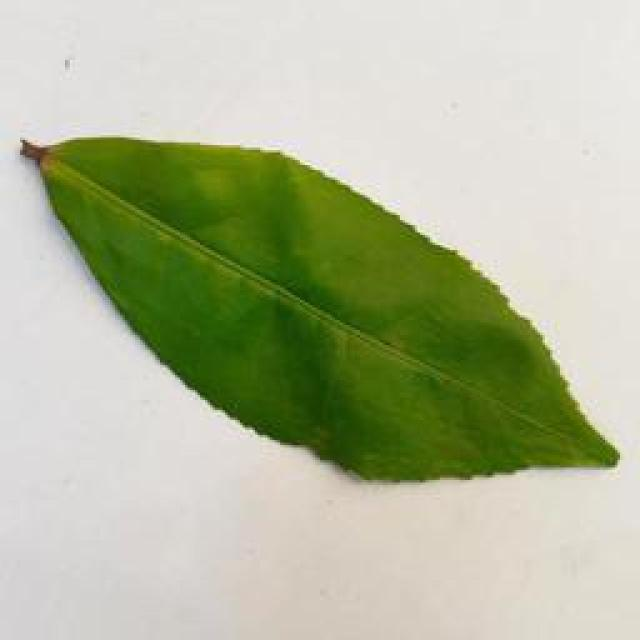Healthy: (16, 116, 624, 474)
